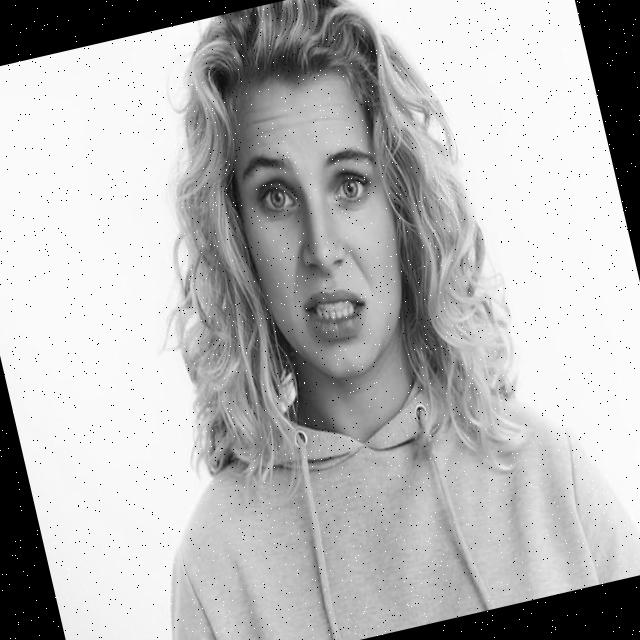Disgust: (210, 58, 428, 394)
